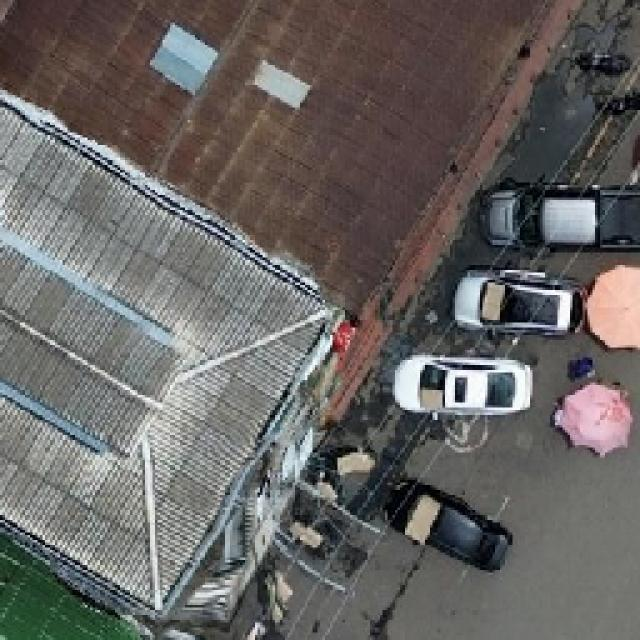vendedor_ambulante: (554, 385, 636, 456), (586, 266, 640, 354)
